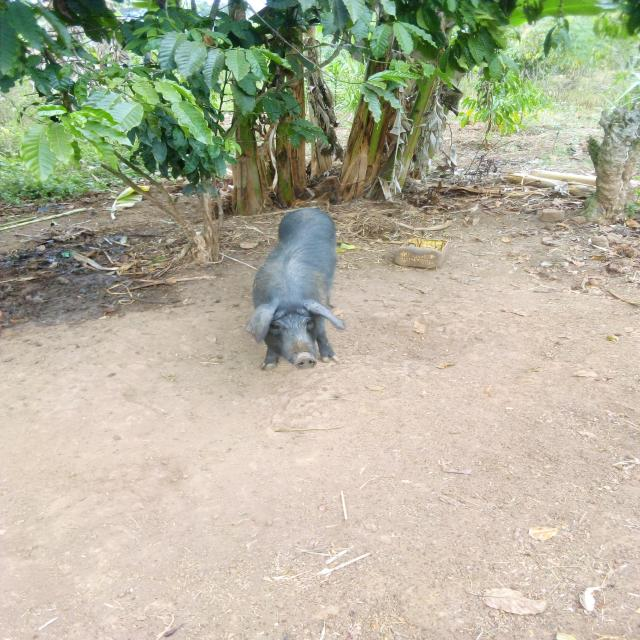pig: (212, 169, 390, 403)
